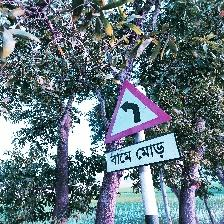Left-Turn: (103, 79, 181, 176)
